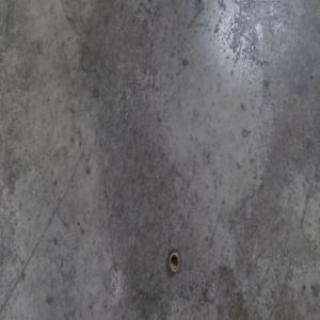Nuttrack_idkeyframe: (166, 246, 179, 273)
